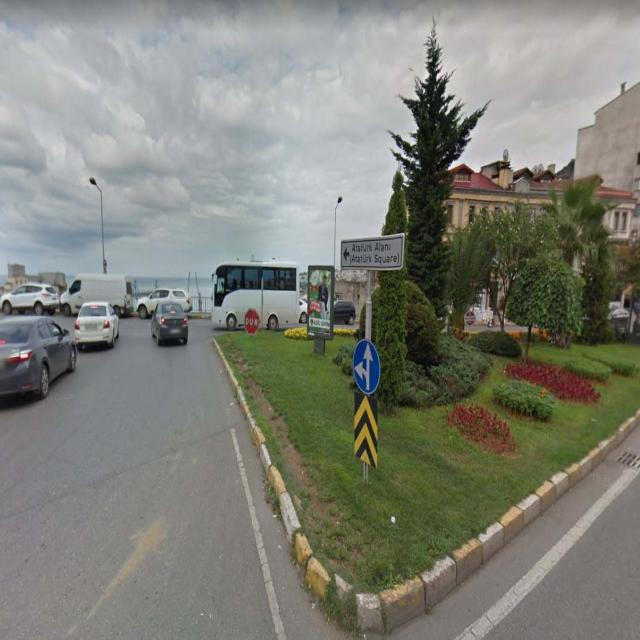dur: (245, 308, 260, 334)
ilerisol: (352, 339, 381, 396)
